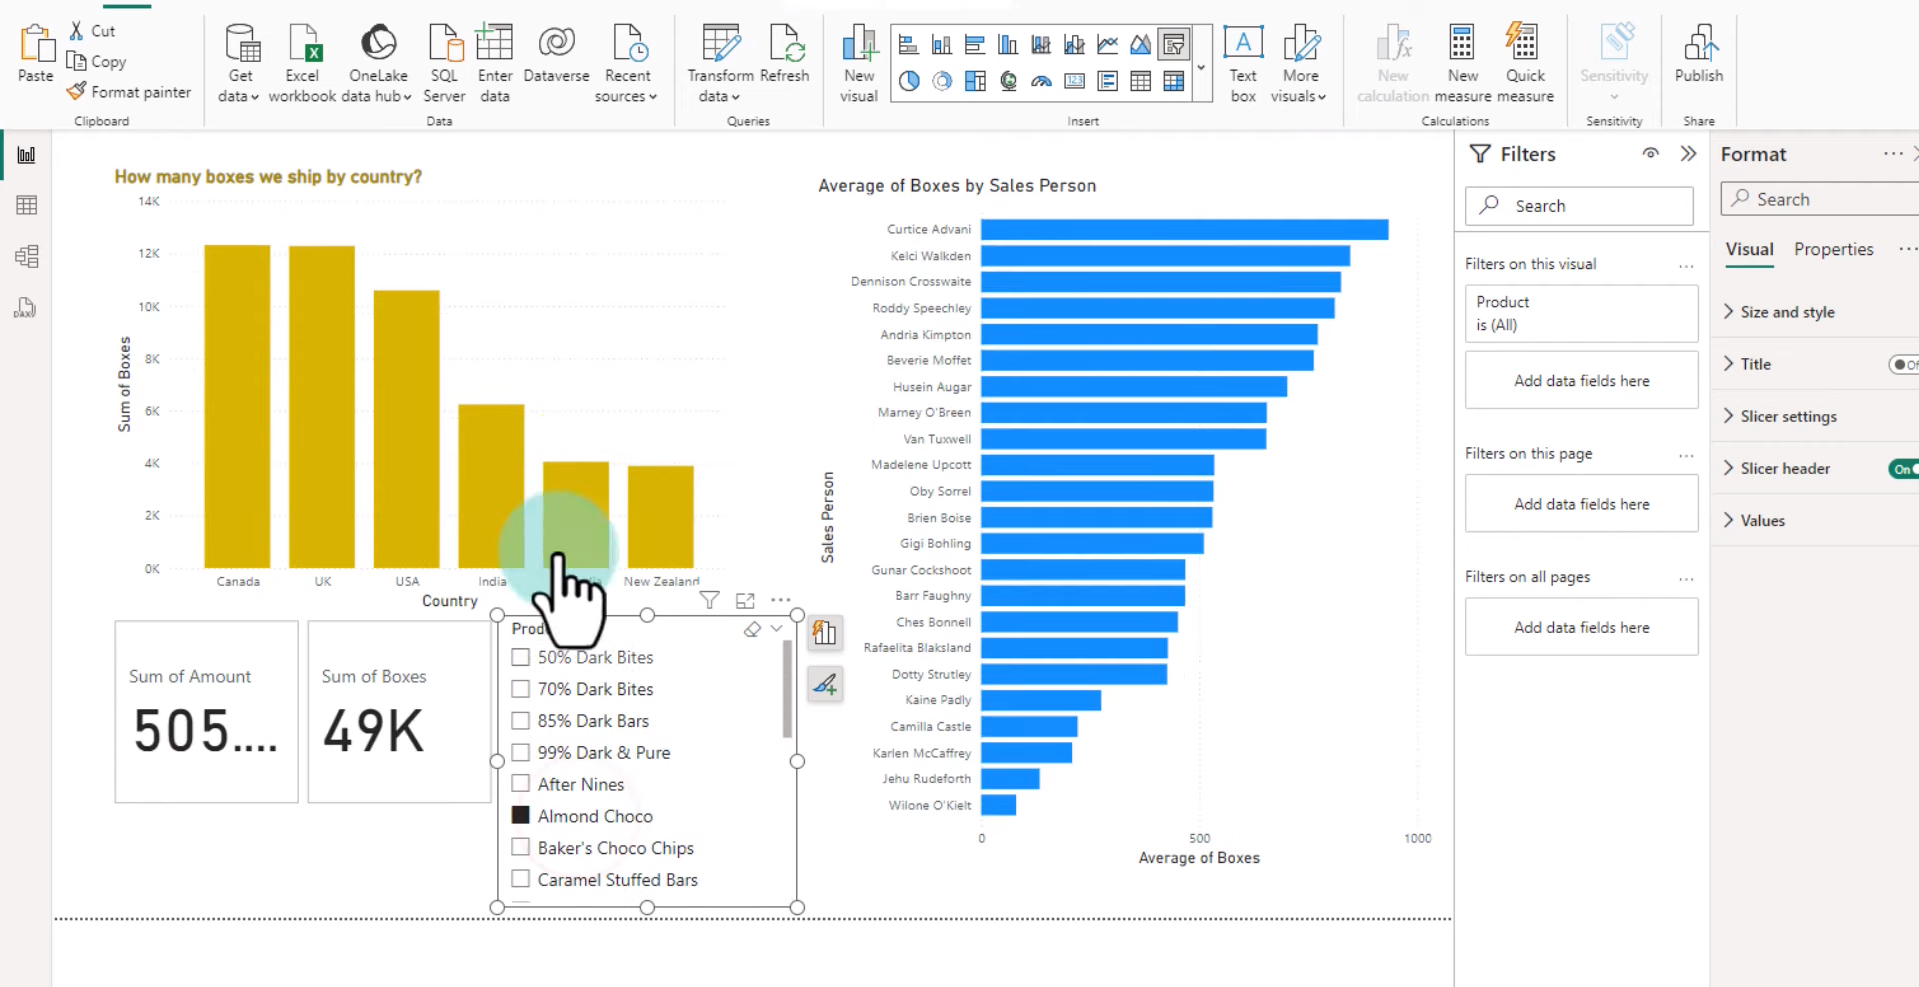

This screenshot's page, from the dashboard's own definition file:
{"tool":"powerbi","page":{"name":"Page 1","canvas":[1280,720],"ordinal":0},"visuals":[{"type":"columnChart","title":"How many boxes we ship by country?","fields":{"Category":["data.Country"],"Y":["Sum(data.Boxes)"]},"box":[17.5,3.8,711.2,330],"z":0},{"type":"clusteredBarChart","fields":{"Category":["data.Sales Person"],"Y":["Avg(data.Boxes)"]},"box":[768.8,0,511.2,702.5],"z":1000},{"type":"cardVisual","fields":{"Data":["Sum(data.Amount)","Sum(data.Boxes)"]},"box":[17.5,360,347.5,161.2],"z":2000},{"type":"slicer","fields":{"Values":["data.Product"]},"box":[403.8,341.2,325,361.2],"z":3000},{"type":"slicer","fields":{"Values":["data.Date"]},"box":[41.2,543.8,323.8,122.5],"z":4000}]}

Visuals, with their boxes on the page's 1280x720 design canvas (x1, y1, x2, y2). These are canvas units, not pixel positions in the 1919x987 screenshot, which may show the page scaled, cropped or inside an application window:
"How many boxes we ship by country?" columnChart: select_region(18, 4, 729, 334)
clusteredBarChart - data.Sales Person x Avg(data.Boxes): select_region(769, 0, 1280, 702)
cardVisual - Sum(data.Amount) x Sum(data.Boxes): select_region(18, 360, 365, 521)
slicer - data.Product: select_region(404, 341, 729, 702)
slicer - data.Date: select_region(41, 544, 365, 666)
